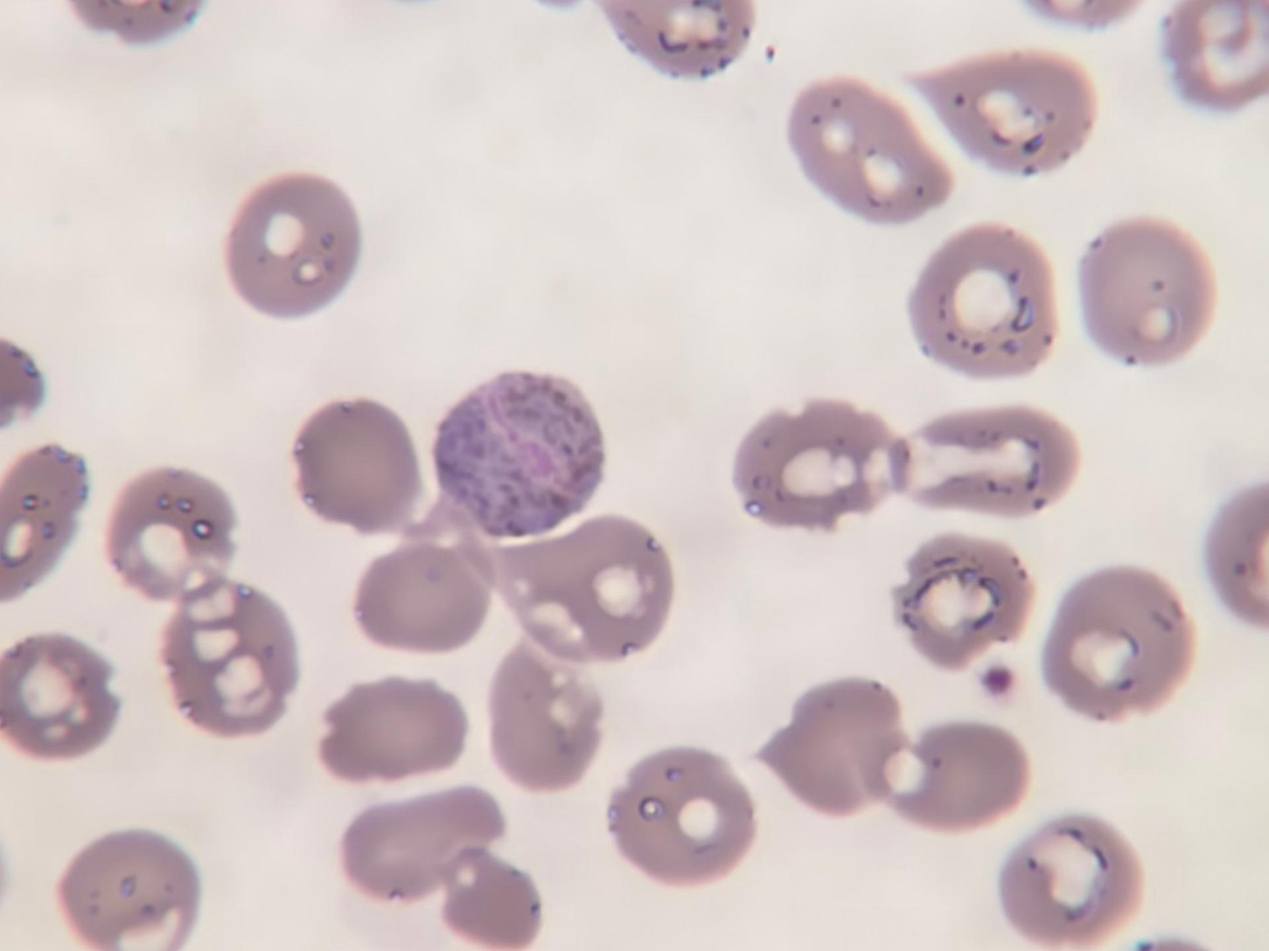Infected: (436, 375, 604, 534)
Uninfected: (912, 40, 1100, 179), (495, 515, 670, 664), (784, 80, 947, 226), (731, 399, 912, 530), (1040, 570, 1196, 721), (912, 223, 1062, 378), (159, 584, 299, 736), (758, 677, 908, 815), (903, 405, 1083, 519), (607, 747, 754, 886), (225, 172, 360, 319), (894, 533, 1037, 671), (338, 786, 508, 902), (1082, 225, 1218, 362), (999, 815, 1142, 945), (106, 466, 237, 601), (289, 399, 420, 534), (57, 830, 200, 949), (488, 646, 603, 792), (317, 677, 469, 784), (353, 541, 491, 655), (885, 722, 1028, 832), (0, 634, 118, 757), (1, 445, 89, 601), (600, 1, 754, 79), (1164, 0, 1269, 109), (441, 844, 539, 951)
